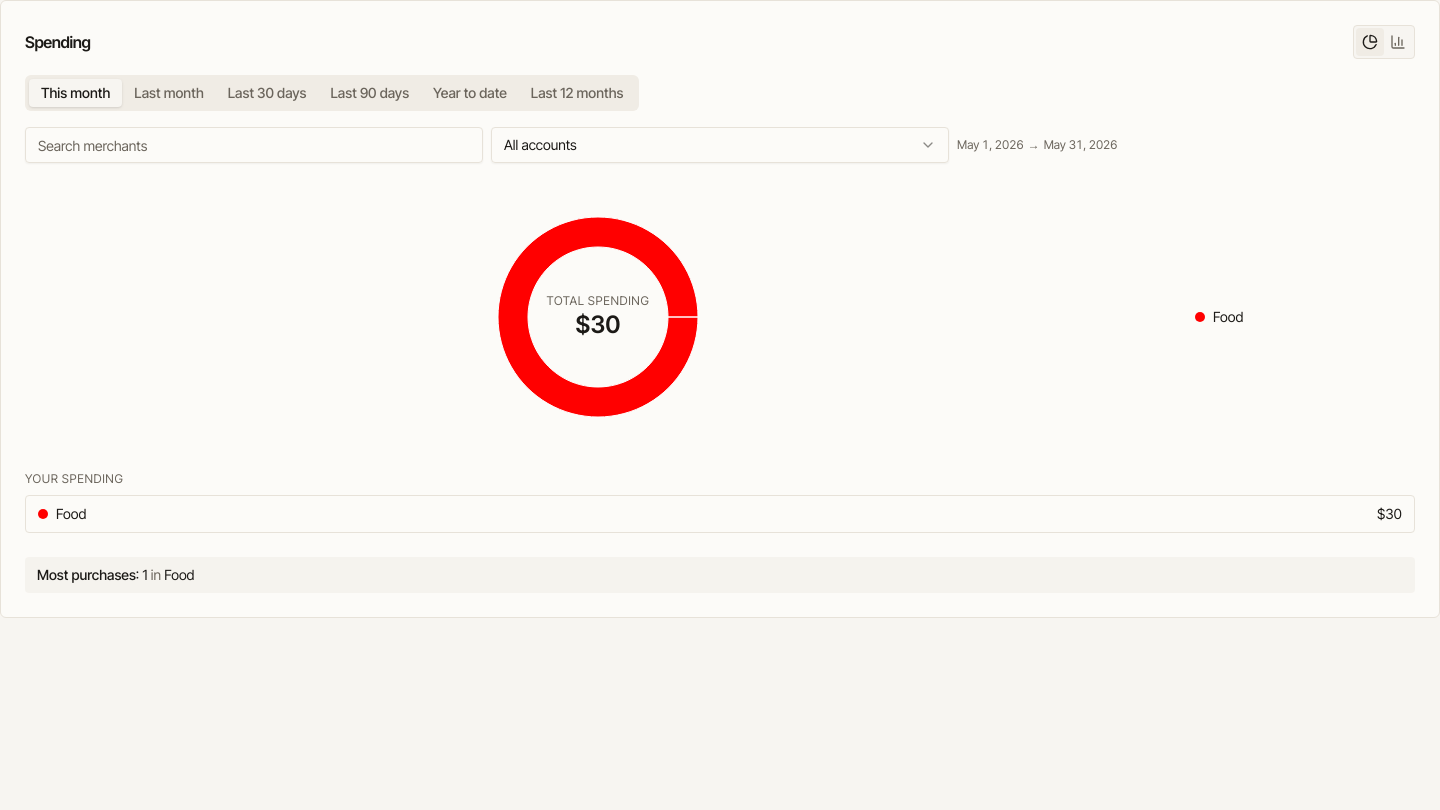
Test case: SpendingWidget › toggles between donut and bar chart modes via the corner toggle
Expected: the element with test id "spending-widget-center" is shown, [547, 293, 649, 339]
Click the button with test id "spending-widget-bar-toggle".
click(1398, 42)  # box [1384, 28, 1412, 56]
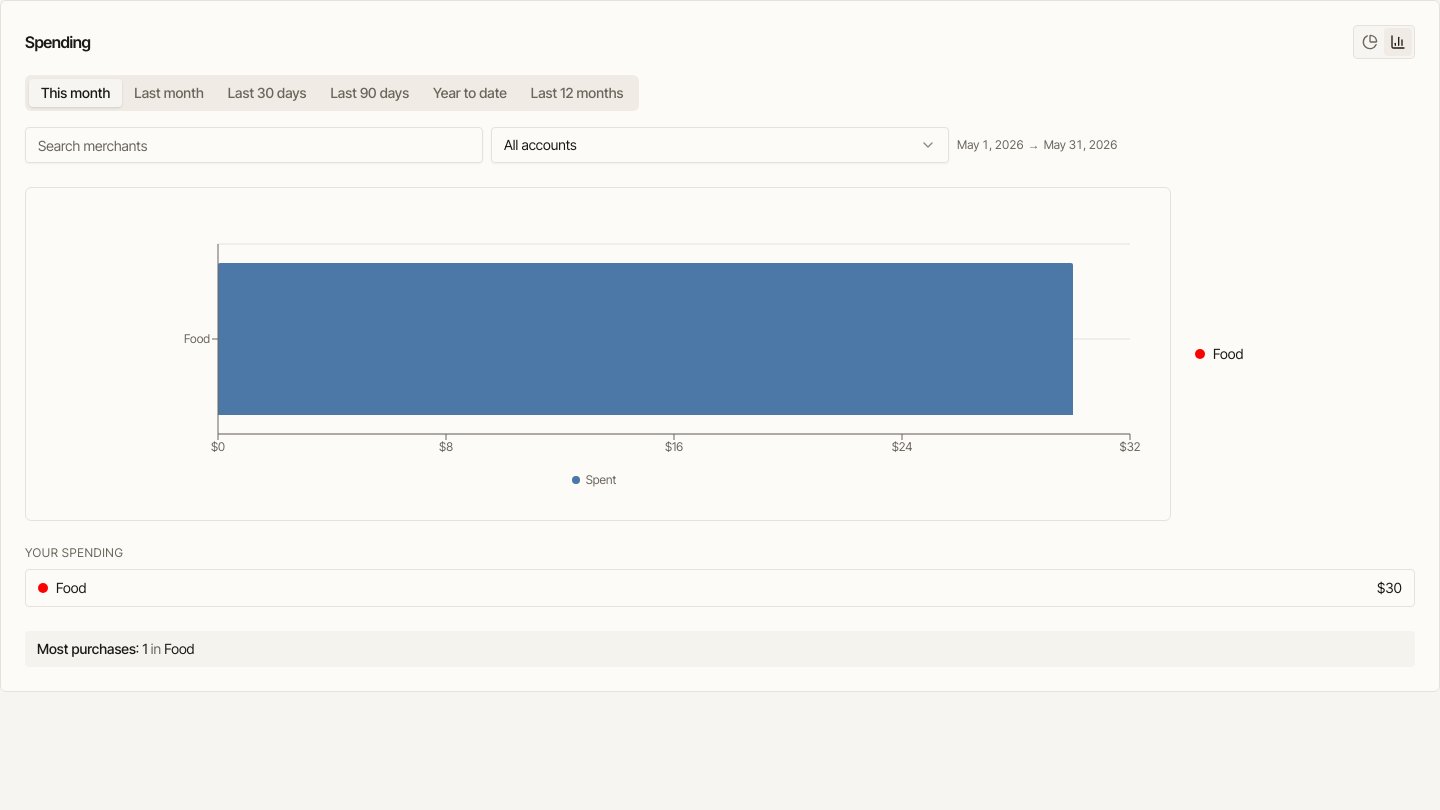
Now the element with test id "spending-widget-center" is gone
Click the button with test id "spending-widget-donut-toggle".
click(1370, 42)  # box [1356, 28, 1384, 56]
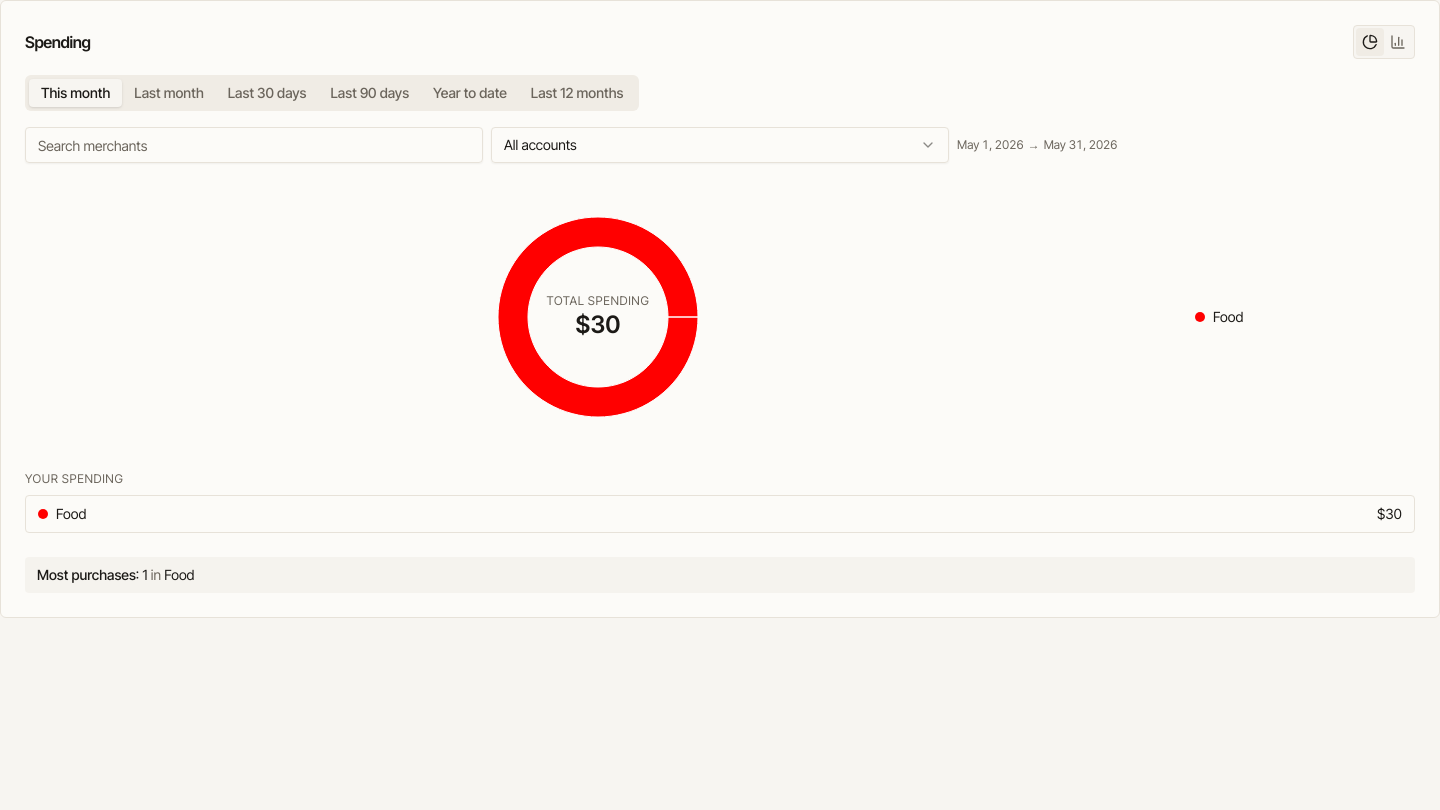
Now the element with test id "spending-widget-center" is shown, box [547, 293, 649, 339]
